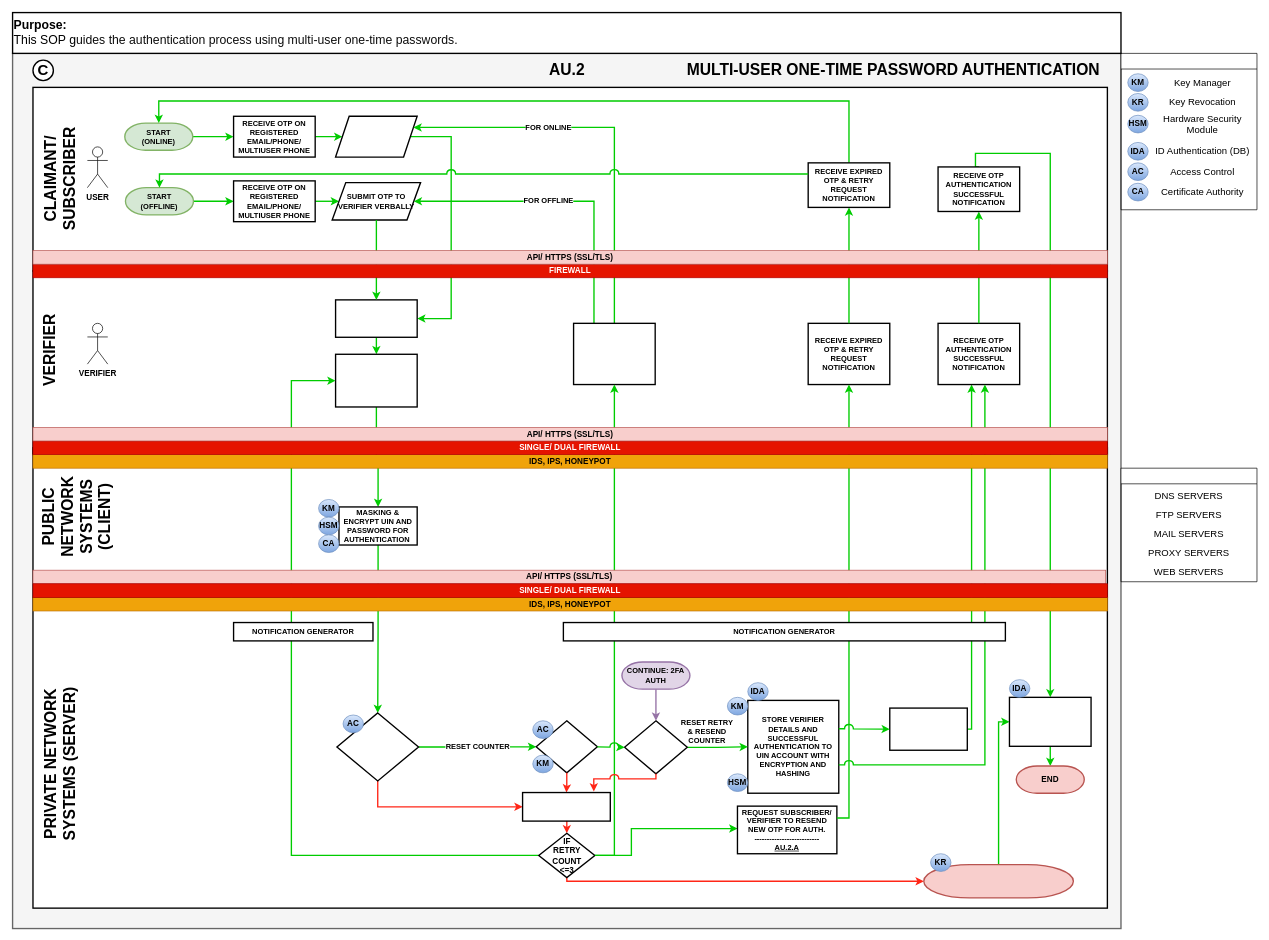
This 1269x940 diagram has some shape labels left out. The shapes that lost their labels are listed below. From the top down, each one's box as (x1, y1, x2, y2) in pixels, then its label:
(335, 115, 418, 157): SUBMIT OTP TO VERIFIER ONLINE
(1120, 53, 1257, 210): LEGEND
(335, 299, 418, 338): RECEIVES 6-DIGIT OTP
(573, 322, 656, 385): RECEIVE OTP AUTHENTICATION FAILURE NOTIFICATION
(335, 353, 418, 407): SEND THE 6-DIGIT OTP AND VERIFIER CREDENTIALS FOR AUTHENTICATION
(1120, 468, 1257, 582): PUBLIC NETWORK
(889, 707, 968, 751): MEMORABLE SECRET AUTH. -------------------------- AU.1.D
(1008, 696, 1091, 747): LOGS THE PROCESS AND STATUS
(336, 712, 419, 781): IF VERIFIER CREDENTIALS IS A MATCH
(535, 720, 598, 773): IF 6-DIGIT OTP MATCHES
(624, 720, 688, 774): IF OTP HAS NOT TIMED- OUT
(522, 792, 611, 821): EXCEPTION AND ERROR HANDLING (COUNTER)
(923, 864, 1074, 898): TERMINATE PROCESS: LOCK UIN ACCOUNT FOR 24 HOURS
